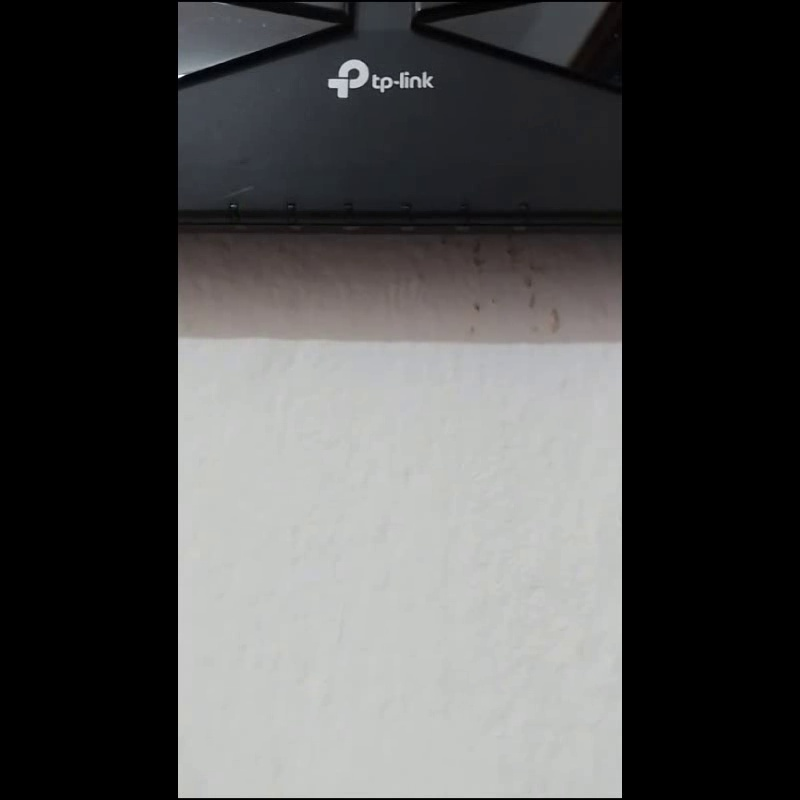off: (457, 201, 468, 223), (401, 201, 412, 222), (229, 202, 240, 222), (517, 202, 527, 223), (343, 201, 353, 221), (284, 200, 294, 220)
